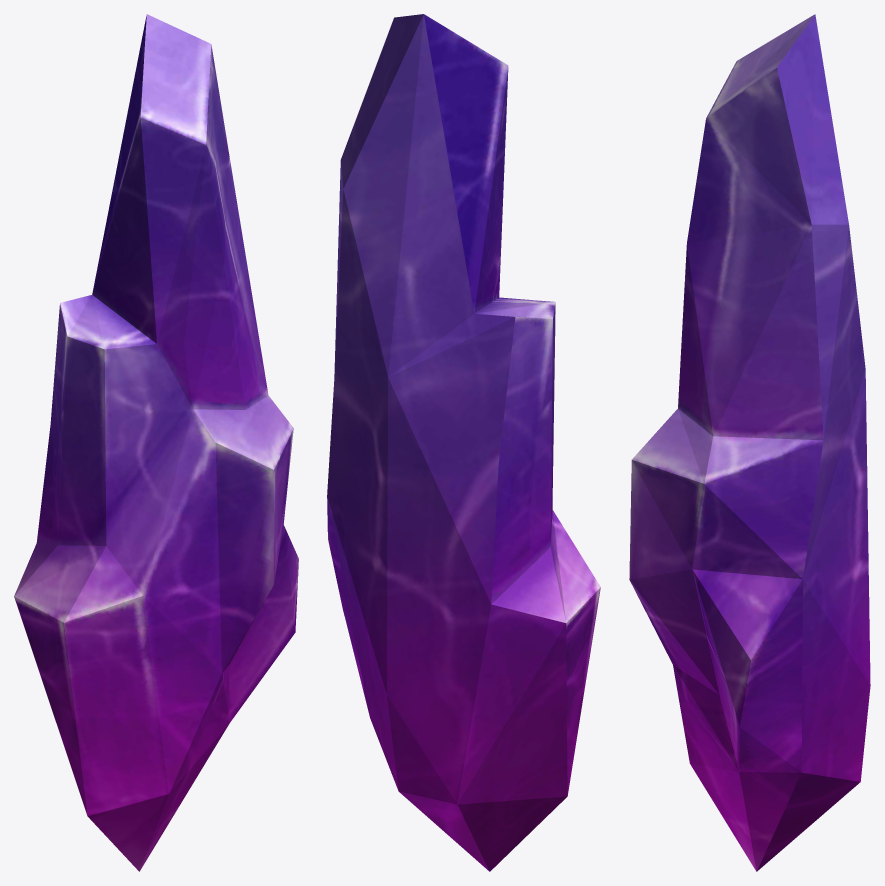
File: lord_effect_7.fbx
The picture shows the model from 3 angles, left to right: view 1: azimuth 30°, elevation 25°; view 2: azimuth 150°, elevation 25°; view 3: azimuth 270°, elevation 25°; orthographic projection. The views are drawn at different scales.
Parts seen in each view (by area): view 1: shuijing; view 2: shuijing; view 3: shuijing.
Boxes of the visible parts, left/top/right/bottom form: shuijing: left=14, top=14, right=298, bottom=871; shuijing: left=327, top=14, right=600, bottom=871; shuijing: left=629, top=14, right=870, bottom=871.
Size of the model in its own units: 2.45 by 7.58 by 1.89.
